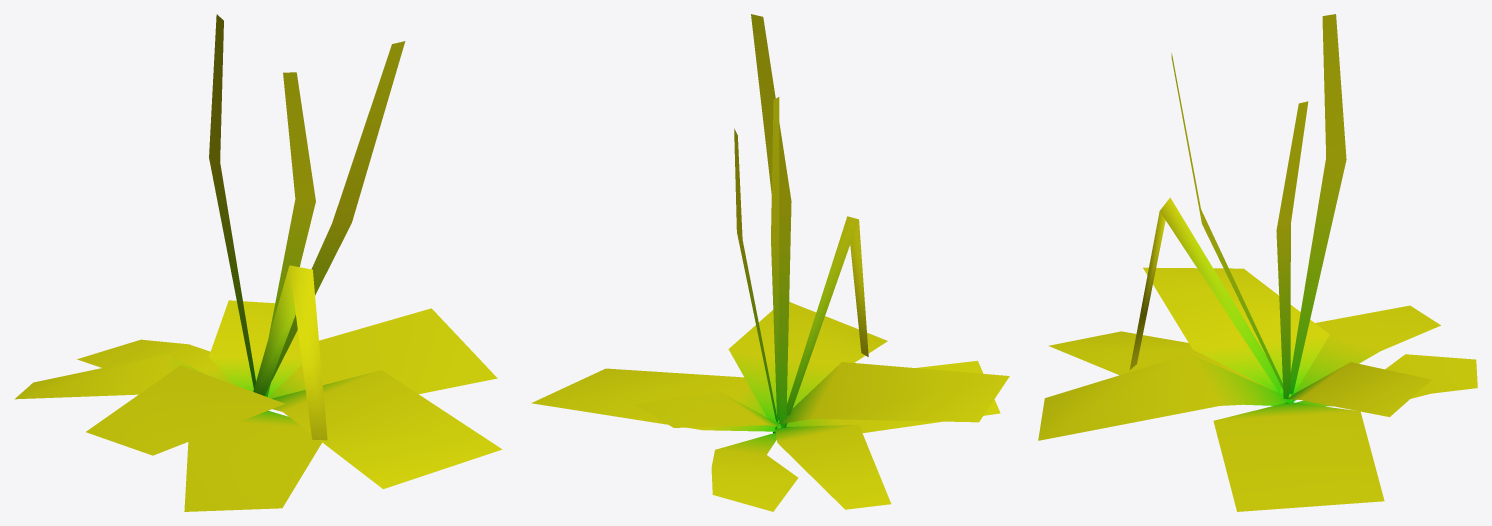
The model's file is Broadleaf Plantain_LOD3_Var3_sfhjc.fbx.
3 renders of one model, left to right at view 1: azimuth 30°, elevation 25°; view 2: azimuth 150°, elevation 25°; view 3: azimuth 270°, elevation 25°, orthographic. The views are drawn at different scales.
Parts seen in each view (by area): view 1: _4ba8_Var3_LOD3; view 2: _4ba8_Var3_LOD3; view 3: _4ba8_Var3_LOD3.
Boxes of the visible parts, left/top/right/bottom form: _4ba8_Var3_LOD3: left=14, top=14, right=502, bottom=511; _4ba8_Var3_LOD3: left=531, top=14, right=1009, bottom=511; _4ba8_Var3_LOD3: left=1038, top=14, right=1477, bottom=511.
Size of the model in its own units: 22.99 by 20.71 by 21.01.
